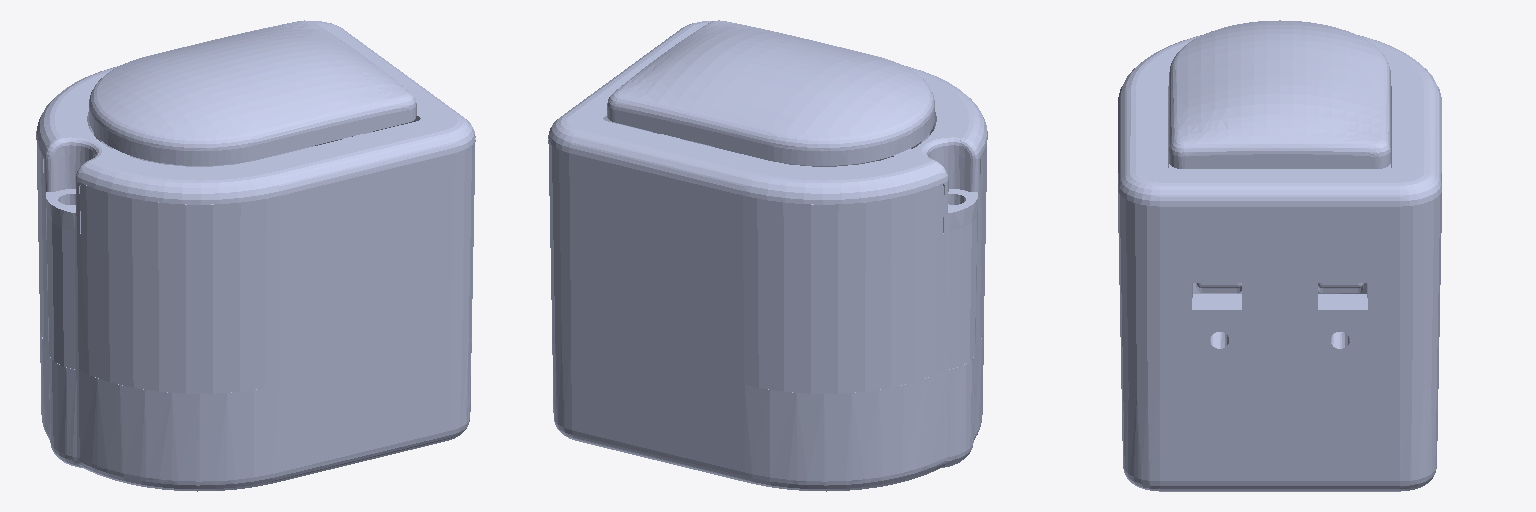
robot.urdf — digit_asmb_skin_with_marks:
<?xml version="1.0" encoding="utf-8"?>
<!-- This URDF was automatically created by SolidWorks to URDF Exporter! Originally created by [author] ([email redacted]) 
     Commit Version: 1.6.0-1-g15f4949  Build Version: 1.6.7594.29634
     For more information, please see http://wiki.ros.org/sw_urdf_exporter -->
<robot
  name="digit_asmb_skin_with_marks">



  <link
    name="body_link">
    <inertial>
      <origin
        xyz="-0.0181069790400211 -0.0232894157566575 0.0159899143854164"
        rpy="0 0 0" />
      <mass
        value="0.00778371041531611" />
      <inertia
        ixx="7.77176839696666E-07"
        ixy="-5.52554519832777E-09"
        ixz="-2.21347841436063E-13"
        iyy="1.5788930001559E-06"
        iyz="-8.96409492665377E-14"
        izz="1.05613167218354E-06" />
    </inertial>
    <visual>
      <origin
        xyz="0 0 0"
        rpy="0 0 0" />
      <geometry>
        <mesh
          filename="package://digit_asmb_skin_with_marks/meshes/body_link.STL" />
      </geometry>
      <material
        name="">
        <color
          rgba="0.792156862745098 0.819607843137255 0.933333333333333 1" />
      </material>
    </visual>
    <collision>
      <origin
        xyz="0 0 0"
        rpy="0 0 0" />
      <geometry>
        <mesh
          filename="package://digit_asmb_skin_with_marks/meshes/body_link.STL" />
      </geometry>
    </collision>
  </link>



  <link
    name="skin_link">
    <inertial>
      <origin
        xyz="8.83564269189042E-05 0.00577337450478402 -0.00668896848435556"
        rpy="0 0 0" />
      <mass
        value="1.15850527545661E-05" />
      <inertia
        ixx="6.58329879336515E-10"
        ixy="1.23346076318882E-13"
        ixz="-6.79556003586386E-13"
        iyy="4.0184552045528E-10"
        iyz="-4.44262881574028E-12"
        izz="1.03113612156025E-09" />
    </inertial>
    <visual>
      <origin
        xyz="0 0 0"
        rpy="0 0 0" />
      <geometry>
        <mesh
          filename="package://digit_asmb_skin_with_marks/meshes/skin_link.STL" />
      </geometry>
      <material
        name="">
        <color
          rgba="0.792156862745098 0.819607843137255 0.933333333333333 1" />
      </material>
    </visual>
    <collision>
      <origin
        xyz="0 0 0"
        rpy="0 0 0" />
      <geometry>
        <mesh
          filename="package://digit_asmb_skin_with_marks/meshes/skin_link.STL" />
      </geometry>
    </collision>
  </link>


  <joint
    name="body_skin_joint"
    type="fixed">
    <origin
      xyz="-0.0239055568075996 -0.0159844646257444 -0.0133480108232608"
      rpy="-3.14159265358979 0 1.5707963267949" />
    <parent
      link="body_link" />
    <child
      link="skin_link" />
    <axis
      xyz="0 0 0" />
  </joint>



  <link
    name="sq_link">
    <inertial>
      <origin
        xyz="-0.00535000000000003 0.00799999999999999 5.00000000005617E-06"
        rpy="0 0 0" />
      <mass
        value="1.59999999999993E-07" />
      <inertia
        ixx="5.33346666666645E-14"
        ixy="-1.34013559776601E-30"
        ixz="4.41903370583012E-33"
        iyy="5.33346666666645E-14"
        iyz="-3.65677197028787E-28"
        izz="1.06666666666662E-13" />
    </inertial>
    <visual>
      <origin
        xyz="0 0 0"
        rpy="0 0 0" />
      <geometry>
        <mesh
          filename="package://digit_asmb_skin_with_marks/meshes/sq_link.STL" />
      </geometry>
      <material
        name="Green">
        <color
          rgba="0.0 1s 0.0 1" />
      </material>
    </visual>
    <collision>
      <origin
        xyz="0 0 0"
        rpy="0 0 0" />
      <geometry>
        <mesh
          filename="package://digit_asmb_skin_with_marks/meshes/sq_link.STL" />
      </geometry>
    </collision>
  </link>


  <joint
    name="skin_sq_joint"
    type="fixed">
    <origin
      xyz="-0.00535000000000005 0.0132650762017464 -0.00645000000000009"
      rpy="0 0 3.14159265358979" />
    <parent
      link="skin_link" />
    <child
      link="sq_link" />
    <axis
      xyz="0 0 0" />
  </joint>
</robot>

--- Render facts (derived) ---
Views: 3 orthographic renders of the robot side by side, from view 1: azimuth 30°, elevation 25°; view 2: azimuth 150°, elevation 25°; view 3: azimuth 270°, elevation 25°.
Model digit_asmb_skin_with_marks with 3 links and 2 joints (2 fixed), rooted at body_link, posed every joint at zero.
Links seen in each view (by area): view 1: body_link, skin_link; view 2: body_link, skin_link; view 3: body_link, skin_link.
Link boxes in pixels (<box>): body_link: <box>36,21,475,491</box>; skin_link: <box>89,20,416,165</box>; body_link: <box>548,21,987,491</box>; skin_link: <box>607,20,934,165</box>; body_link: <box>1118,35,1441,491</box>; skin_link: <box>1169,20,1390,168</box>.
Size in the robot's own frame: 0.034 by 0.0269 by 0.0324 metres.
Meshes: 3 distinct files referenced, 3 mesh visuals loaded (3 binary STL).